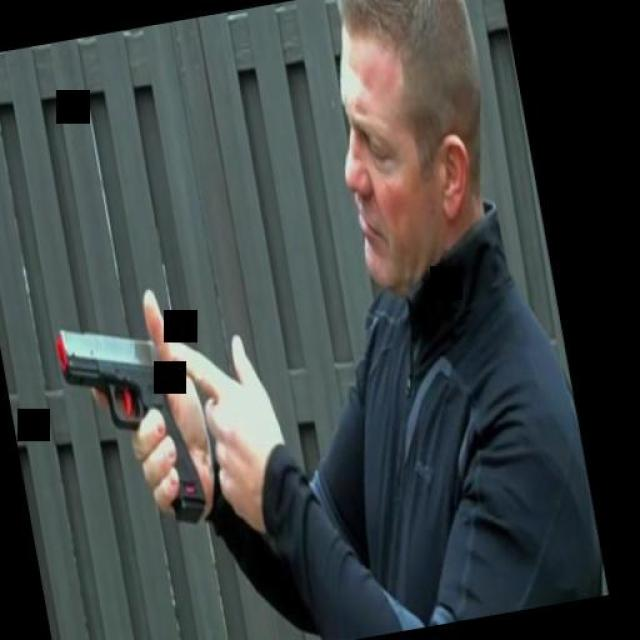gun: (47, 301, 215, 540)
